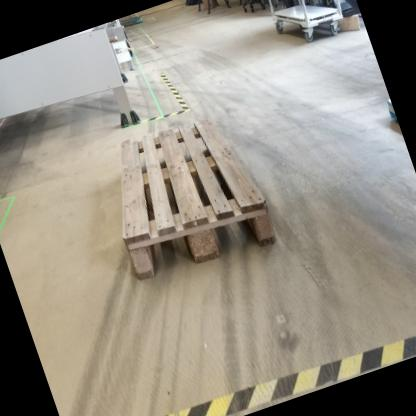BoxFace: (118, 110, 283, 285)
